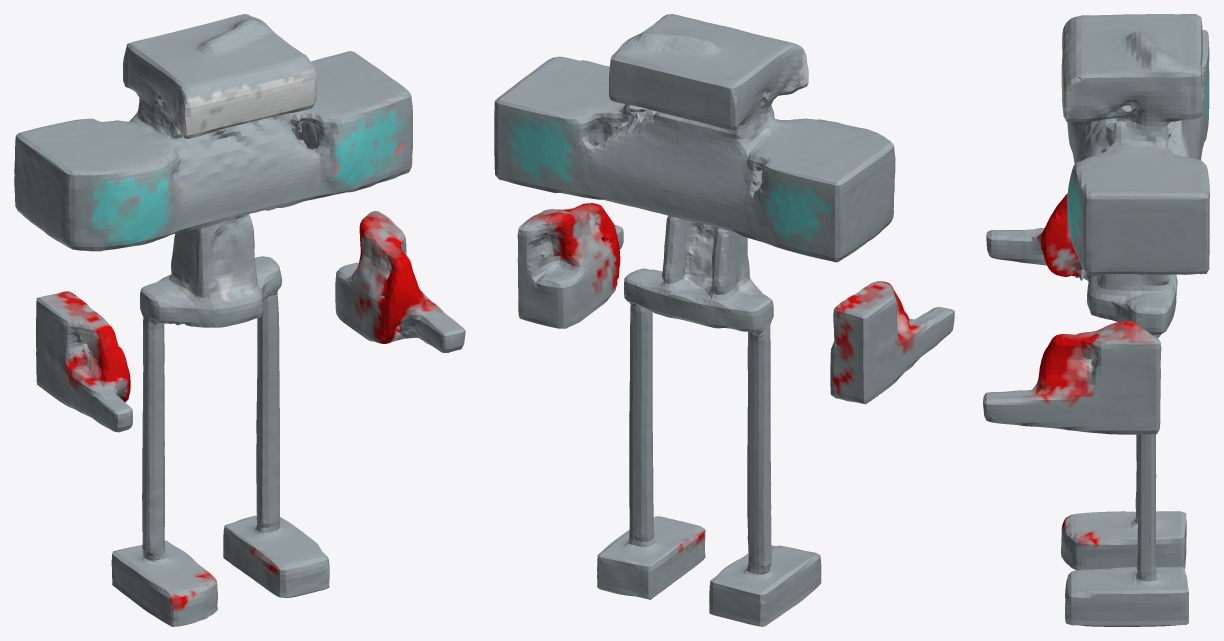
File: Robot.fbx
3 views of the same model, side by side, from view 1: azimuth 30°, elevation 25°; view 2: azimuth 150°, elevation 25°; view 3: azimuth 270°, elevation 25° (orthographic). The views are drawn at different scales.
Visible parts, largest first — view 1: robot.1; view 2: robot.1; view 3: robot.1.
Part boxes in pixels (bbox=[...]): robot.1: bbox=[14, 14, 465, 626]; robot.1: bbox=[494, 14, 954, 626]; robot.1: bbox=[983, 14, 1209, 626].
Size of the model in its own units: 66.29 by 98.72 by 36.48.
